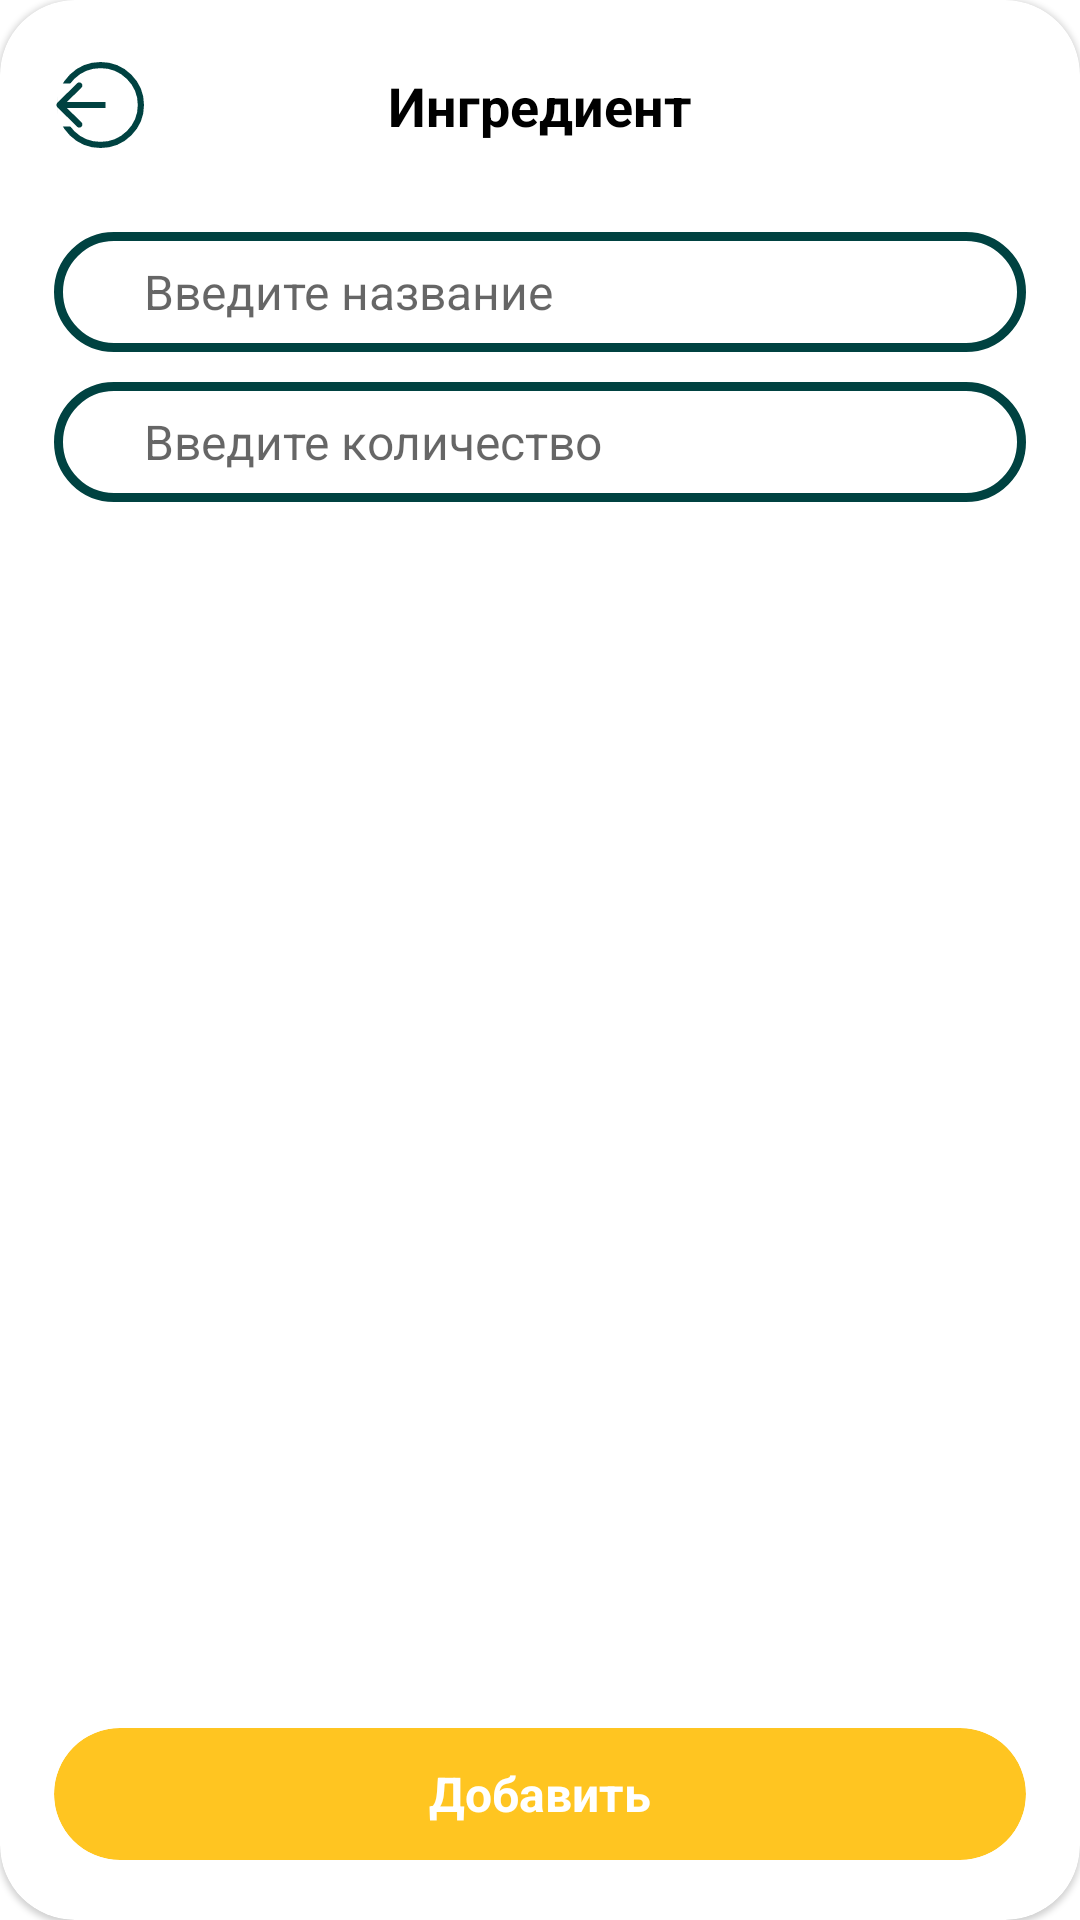

Where icons sit on this 1080 x 1920 app screen, as (x1, y1, x2, y2):
exit main: (56, 62, 144, 148)
